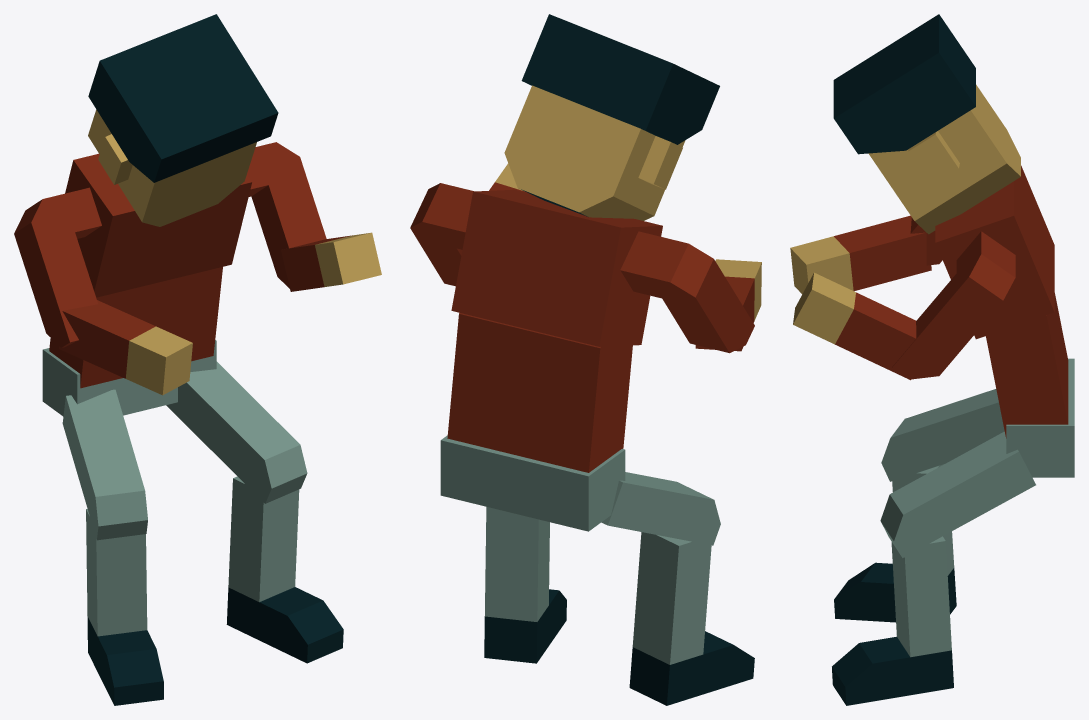
The model's file is MainGuyPoses_baked.fbx.
3 renders of one model, left to right at view 1: azimuth 30°, elevation 25°; view 2: azimuth 150°, elevation 25°; view 3: azimuth 270°, elevation 25°, orthographic. The views are drawn at different scales.
Parts seen in each view (by area): view 1: head, chest, r_upperleg1, r_upperleg, l_upperarm, l_forearm1, r_lowerleg, stomach, l_upperarm1, r_lowerleg1, r_shoe, r_shoe1 (+2 smaller); view 2: head, chest, stomach, butt, l_upperarm, r_lowerleg1, r_lowerleg, r_upperleg, r_shoe1, l_upperarm1, r_shoe, l_forearm1; view 3: head, r_upperleg1, chest, l_upperarm1, stomach, l_forearm1, l_forearm, r_upperleg, r_shoe, r_lowerleg, butt, r_shoe1 (+2 smaller).
Boxes of the visible parts, x1=… form: head: x1=88, y1=14, x2=278, y2=226; chest: x1=65, y1=153, x2=252, y2=297; r_upperleg1: x1=166, y1=361, x2=307, y2=503; r_upperleg: x1=62, y1=389, x2=147, y2=540; l_upperarm: x1=14, y1=187, x2=101, y2=347; l_forearm1: x1=59, y1=300, x2=192, y2=395; r_lowerleg: x1=228, y1=476, x2=299, y2=602; stomach: x1=49, y1=267, x2=222, y2=388; l_upperarm1: x1=247, y1=142, x2=326, y2=289; r_lowerleg1: x1=86, y1=509, x2=147, y2=636; r_shoe: x1=226, y1=587, x2=343, y2=663; r_shoe1: x1=87, y1=616, x2=163, y2=705; head: x1=504, y1=14, x2=719, y2=220; chest: x1=451, y1=189, x2=662, y2=346; stomach: x1=447, y1=313, x2=632, y2=472; butt: x1=440, y1=435, x2=625, y2=531; l_upperarm: x1=620, y1=231, x2=754, y2=353; r_lowerleg1: x1=632, y1=532, x2=712, y2=664; r_lowerleg: x1=485, y1=507, x2=549, y2=621; r_upperleg: x1=601, y1=472, x2=720, y2=545; r_shoe1: x1=629, y1=631, x2=754, y2=705; l_upperarm1: x1=410, y1=183, x2=473, y2=286; r_shoe: x1=484, y1=589, x2=566, y2=663; l_forearm1: x1=695, y1=259, x2=761, y2=351; head: x1=833, y1=14, x2=1020, y2=234; r_upperleg1: x1=880, y1=431, x2=1035, y2=557; chest: x1=935, y1=165, x2=1054, y2=339; l_upperarm1: x1=892, y1=231, x2=1015, y2=379; stomach: x1=986, y1=293, x2=1068, y2=438; l_forearm1: x1=790, y1=215, x2=931, y2=293; l_forearm: x1=793, y1=272, x2=916, y2=380; r_upperleg: x1=881, y1=389, x2=1004, y2=481; r_shoe: x1=832, y1=636, x2=953, y2=705; r_lowerleg: x1=891, y1=536, x2=951, y2=657; butt: x1=1006, y1=358, x2=1074, y2=477; r_shoe1: x1=834, y1=562, x2=956, y2=622.
Size of the model in its own units: 238 by 526 by 219.
